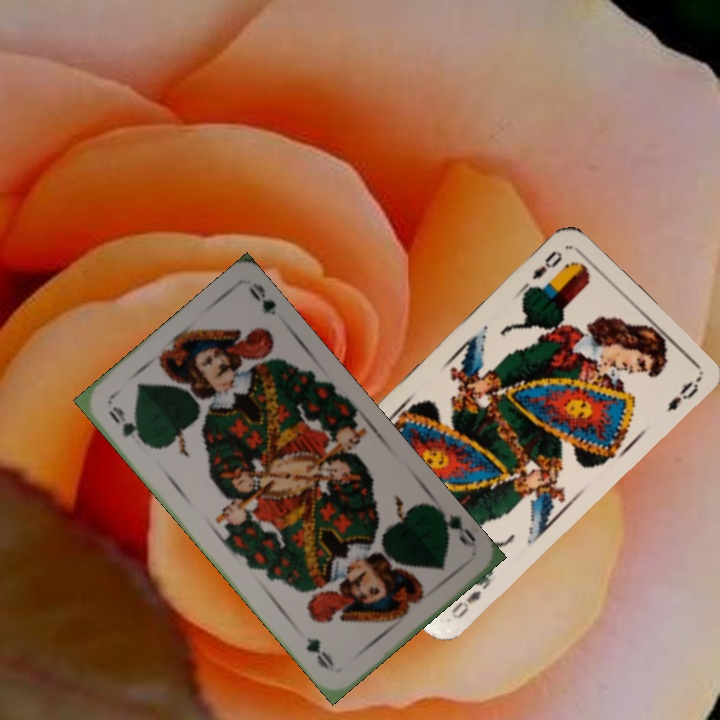EO: (447, 576, 492, 622), (528, 246, 565, 283)
GO: (432, 504, 479, 550), (103, 402, 150, 448)
